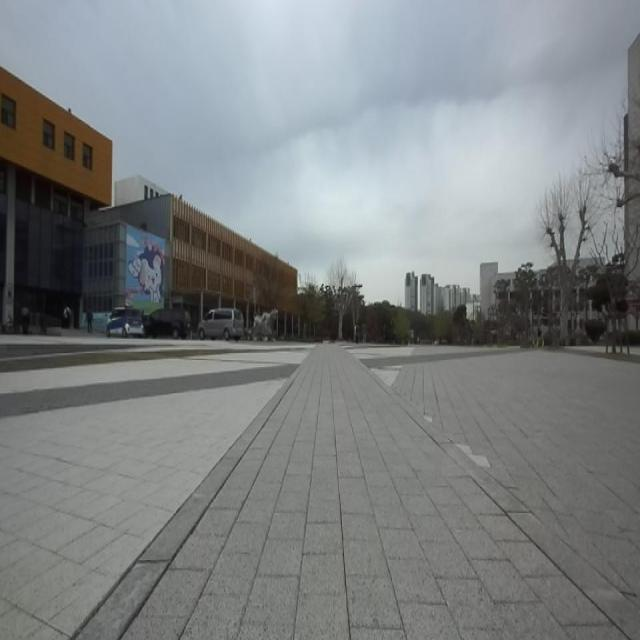sidewalk: (119, 347, 640, 639), (76, 372, 298, 640)
